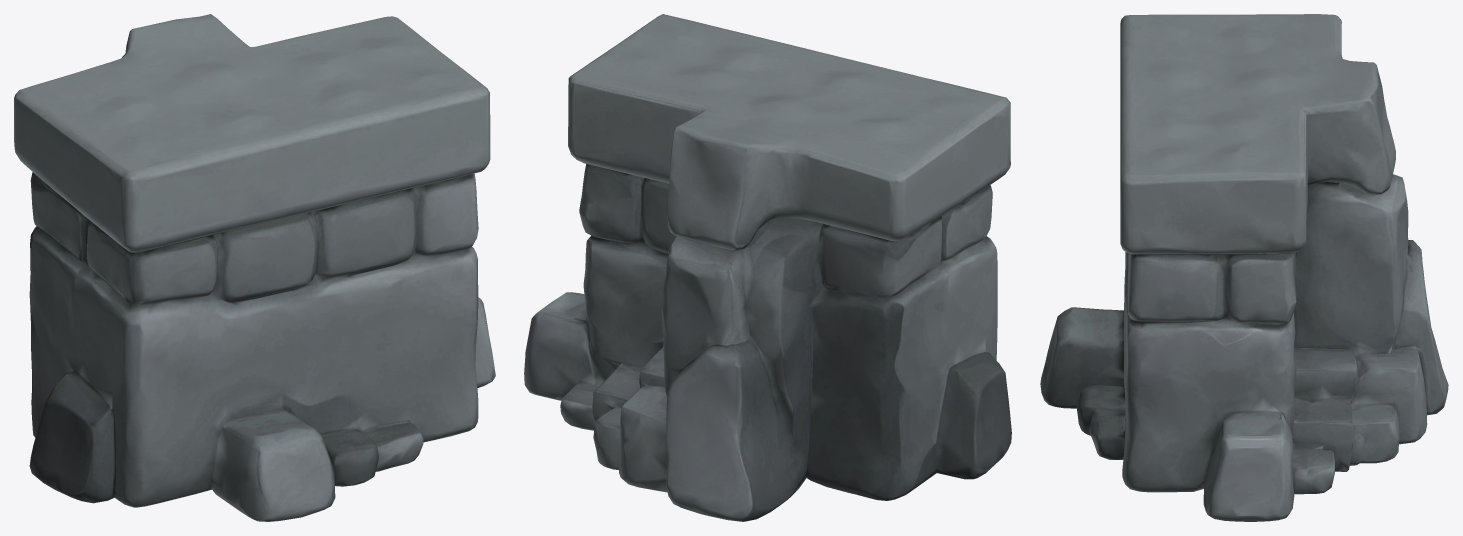
Rendered from cliff_rock_b.1k.glb.
3 renders of one model, left to right at view 1: azimuth 30°, elevation 25°; view 2: azimuth 150°, elevation 25°; view 3: azimuth 270°, elevation 25°, orthographic. The views are drawn at different scales.
Parts seen in each view (by area): view 1: tripo_node_af0360eb-a1dc-4cb1-b8dd-a58a8ef5206c; view 2: tripo_node_af0360eb-a1dc-4cb1-b8dd-a58a8ef5206c; view 3: tripo_node_af0360eb-a1dc-4cb1-b8dd-a58a8ef5206c.
Boxes of the visible parts, left/top/right/bottom form: tripo_node_af0360eb-a1dc-4cb1-b8dd-a58a8ef5206c: left=14, top=14, right=495, bottom=521; tripo_node_af0360eb-a1dc-4cb1-b8dd-a58a8ef5206c: left=524, top=14, right=1011, bottom=521; tripo_node_af0360eb-a1dc-4cb1-b8dd-a58a8ef5206c: left=1040, top=14, right=1448, bottom=521.
Bounding box in the file's own units: 1 × 0.7522 × 0.8305.
Materials: 1 (1 with a texture image).
